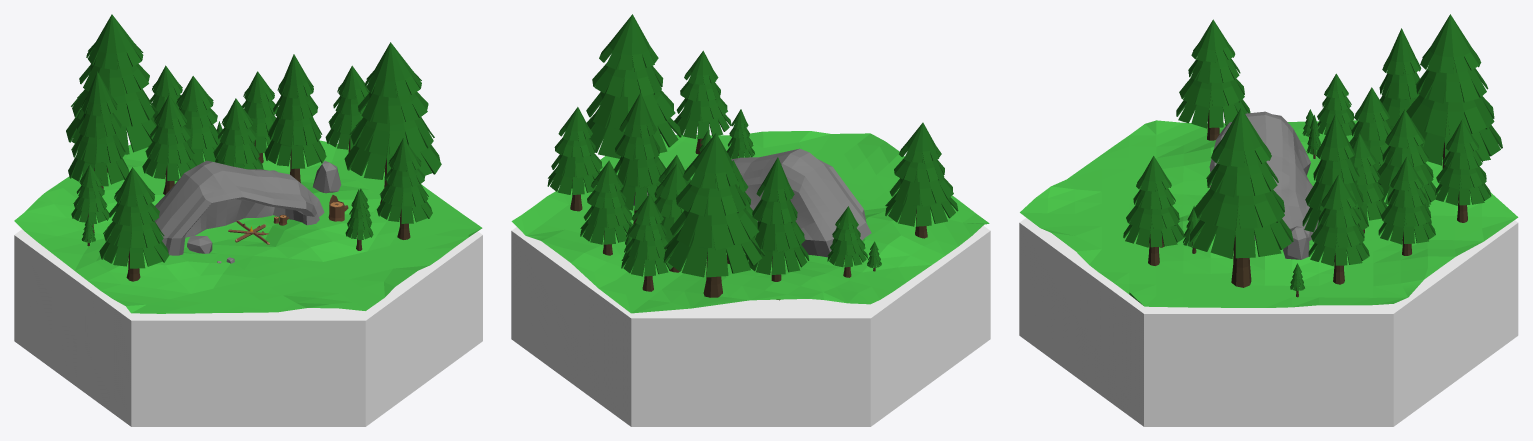
The model's file is wood.glb.
3 views of the same model, side by side, from view 1: azimuth 30°, elevation 25°; view 2: azimuth 150°, elevation 25°; view 3: azimuth 270°, elevation 25° (orthographic). The views are drawn at different scales.
Visible parts, largest first — view 1: Cylinder, Floor green, RockCave, Tree5.002, Tree5, Tree5.003, Tree3, Tree3.001, Tree4.004, Tree4.003, Tree5.001, Tree6.002 (+6 smaller); view 2: Cylinder, Floor green, Tree5, Tree5.002, RockCave, Tree5.003, Tree3.001, Tree3, Tree4.002, Tree4.004, Tree6.001, Tree4.001 (+3 smaller); view 3: Cylinder, Floor green, Tree5.002, Tree5, Tree5.003, RockCave, Tree4.004, Tree4.002, Tree6.001, Tree4.001, Tree3, Tree5.001 (+5 smaller).
Part boxes in pixels (x1,y1,x2,y2): Cylinder: [14, 229, 482, 426]; Floor green: [14, 140, 482, 313]; RockCave: [155, 160, 324, 255]; Tree5.002: [344, 42, 441, 203]; Tree5: [66, 14, 156, 172]; Tree5.003: [99, 167, 169, 281]; Tree3: [264, 54, 326, 182]; Tree3.001: [68, 71, 129, 188]; Tree4.004: [376, 138, 432, 239]; Tree4.003: [142, 95, 196, 194]; Tree5.001: [176, 76, 221, 165]; Tree6.002: [213, 98, 263, 169]; Cylinder: [511, 225, 990, 426]; Floor green: [511, 131, 989, 313]; Tree5: [663, 133, 765, 297]; Tree5.002: [586, 14, 681, 158]; RockCave: [731, 148, 871, 257]; Tree5.003: [885, 122, 958, 238]; Tree3.001: [745, 157, 809, 300]; Tree3: [614, 92, 666, 224]; Tree4.002: [547, 107, 602, 211]; Tree4.004: [673, 50, 731, 154]; Tree6.001: [580, 160, 632, 255]; Tree4.001: [621, 193, 672, 291]; Cylinder: [1019, 217, 1518, 426]; Floor green: [1020, 120, 1518, 307]; Tree5.002: [1190, 108, 1293, 287]; Tree5: [1406, 14, 1502, 168]; Tree5.003: [1176, 19, 1250, 140]; RockCave: [1209, 111, 1318, 240]; Tree4.004: [1123, 156, 1184, 265]; Tree4.002: [1308, 174, 1369, 284]; Tree6.001: [1378, 156, 1435, 255]; Tree4.001: [1435, 119, 1491, 222]; Tree3: [1302, 114, 1368, 232]; Tree5.001: [1377, 109, 1438, 204].
Size of the model in its own units: 1.73 by 1.31 by 2.
